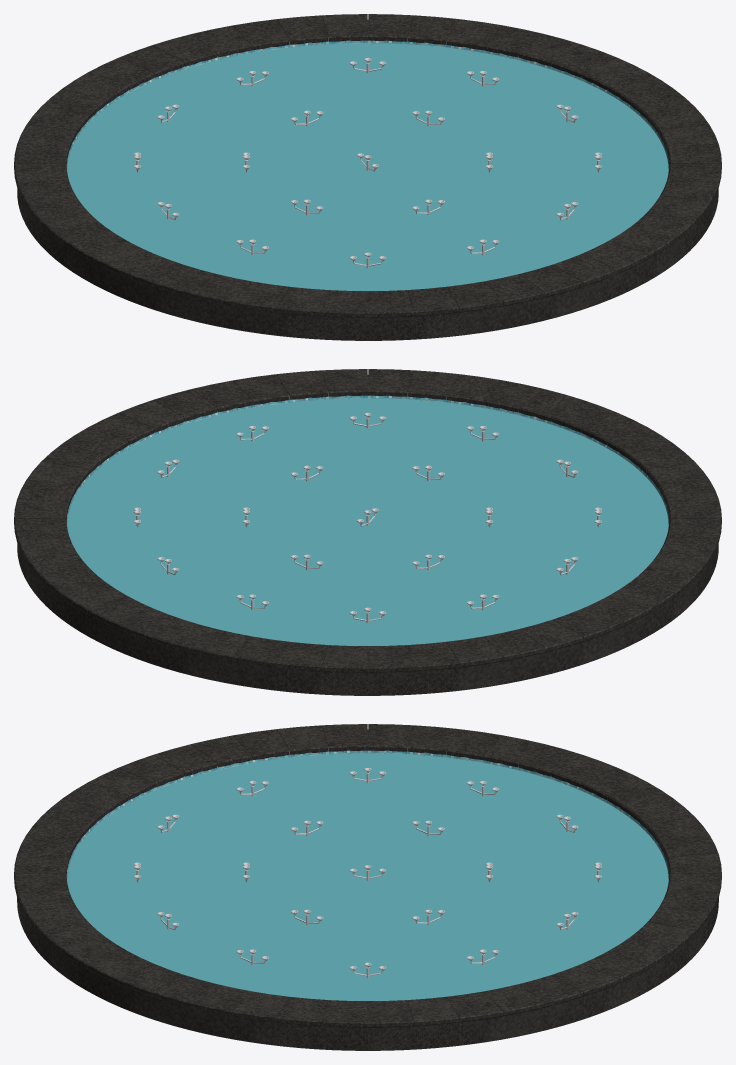
The model's file is nu-fountain.glb.
3 views of the same model, one above another, from view 1: azimuth 30°, elevation 25°; view 2: azimuth 150°, elevation 25°; view 3: azimuth 270°, elevation 25° (orthographic).
Visible parts, largest first — view 1: WaterSurface, Basin, Nozzles; view 2: WaterSurface, Basin, Nozzles; view 3: WaterSurface, Basin, Nozzles.
Part boxes in pixels (x1,y1,x2,y2): WaterSurface: (67,43,668,290); Basin: (14,14,721,340); Nozzles: (134,57,601,268); WaterSurface: (67,398,668,645); Basin: (14,369,721,695); Nozzles: (134,412,601,623); WaterSurface: (67,753,668,1000); Basin: (14,724,721,1050); Nozzles: (134,767,601,978).
Bounding box in the file's own units: 6.76 × 0.39 × 6.76.
5 materials, 2 textured.
